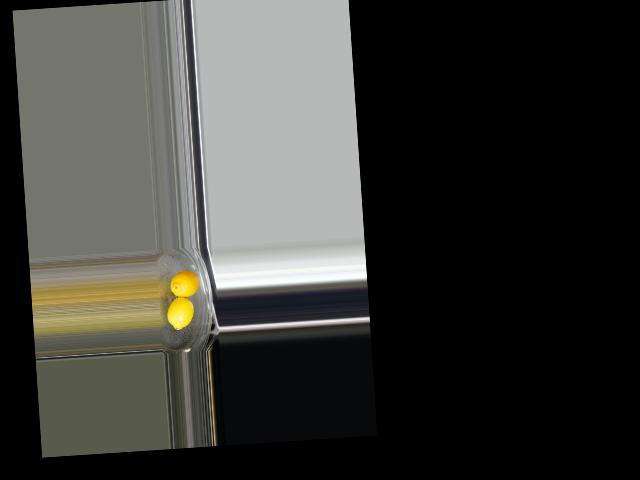lemon: (166, 293, 196, 332)
